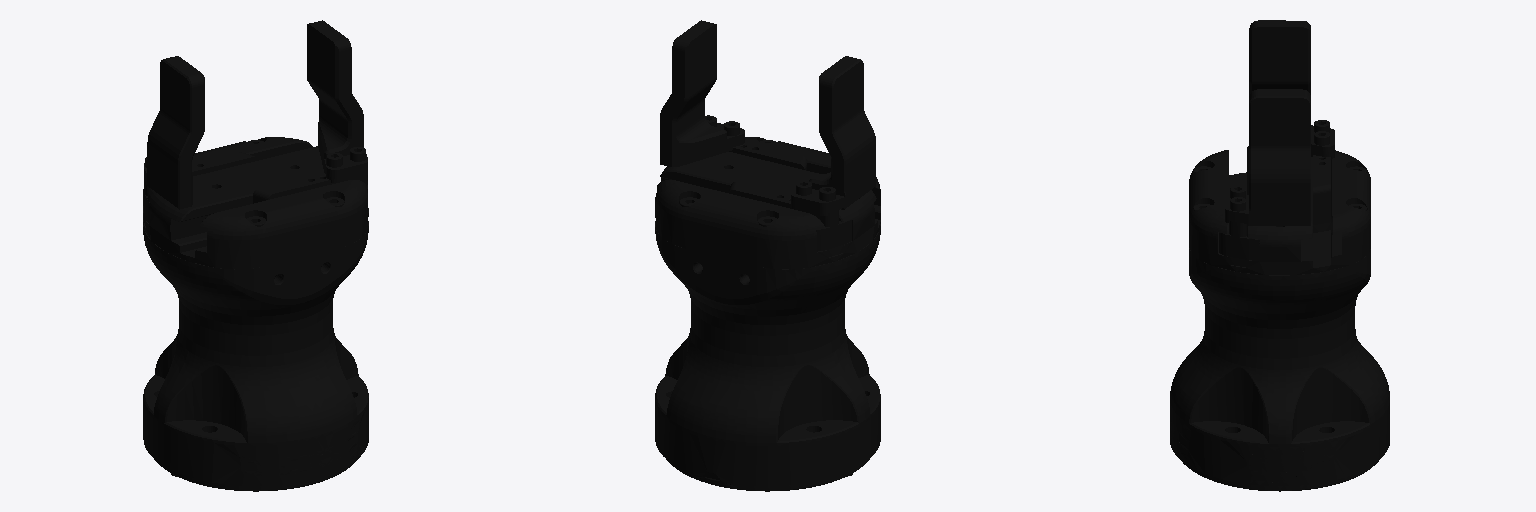
robot.urdf — robotiq_hande:
<?xml version="1.0" ?>
<!-- =================================================================================== -->
<!-- |    This document was autogenerated by xacro from [local-path]/ros2_crystal/src/mara/robotiq_hande_gripper_description/urdf/module_gripper.urdf.xacro | -->
<!-- |    EDITING THIS FILE BY HAND IS NOT RECOMMENDED                                 | -->
<!-- =================================================================================== -->
<robot name="robotiq_hande" xmlns:xacro="http://ros.org/wiki/xacro">
  <link name="robotiq_hande_base_link">
    <inertial>
      <origin rpy="0 0 0" xyz="8.625E-08 -4.6583E-06 0.03145"/>
      <mass value="0.22652"/>
      <inertia ixx="0.00020005" ixy="0" ixz="0" iyy="0.00017832" iyz="0" izz="0.00013478"/>
    </inertial>
    <visual>
      <origin rpy="0 0 1.57" xyz="0 0 0"/>
      <geometry>
        <mesh filename="package://robotiq_hande_gripper_description/meshes/hand-e.dae" scale="0.001 0.001 0.001"/>
      </geometry>
      <material name="">
        <color rgba="0.1 0.1 0.1 1"/>
      </material>
    </visual>
    <collision>
      <origin rpy="0 0 1.57" xyz="0 0 0"/>
      <geometry>
        <mesh filename="package://robotiq_hande_gripper_description/meshes/hand-e.dae" scale="0.001 0.001 0.001"/>
      </geometry>
    </collision>
  </link>
  <gazebo reference="robotiq_hande_base_link">
    <material>Gazebo/Grey</material>
    <selfCollide>True</selfCollide>
  </gazebo>
  <link name="finger1">
    <inertial>
      <origin rpy="0 0 0" xyz="8.625E-08 -4.6583E-06 0.03145"/>
      <mass value="0.22652"/>
      <inertia ixx="0.00020005" ixy="0" ixz="0" iyy="0.00017832" iyz="0" izz="0.00013478"/>
    </inertial>
    <visual>
      <origin rpy="0 0 1.57" xyz="0 0 0"/>
      <geometry>
        <mesh filename="package://robotiq_hande_gripper_description/meshes/finger_1.dae" scale="0.001 0.001 0.001"/>
      </geometry>
      <material name="">
        <color rgba="0.1 0.1 0.1 1"/>
      </material>
    </visual>
    <collision>
      <origin rpy="0 0 1.57" xyz="0 0 0"/>
      <geometry>
        <mesh filename="package://robotiq_hande_gripper_description/meshes/finger_1.dae" scale="0.001 0.001 0.001"/>
      </geometry>
    </collision>
  </link>
  <gazebo reference="finger1">
    <material>Gazebo/Grey</material>
    <selfCollide>True</selfCollide>
  </gazebo>
  <link name="finger2">
    <inertial>
      <origin rpy="0 0 0" xyz="8.625E-08 -4.6583E-06 0.03145"/>
      <mass value="0.22652"/>
      <inertia ixx="0.00020005" ixy="0" ixz="0" iyy="0.00017832" iyz="0" izz="0.00013478"/>
    </inertial>
    <visual>
      <origin rpy="0 0 1.57" xyz="0 0 0"/>
      <geometry>
        <mesh filename="package://robotiq_hande_gripper_description/meshes/finger_2.dae" scale="0.001 0.001 0.001"/>
      </geometry>
      <material name="">
        <color rgba="0.1 0.1 0.1 1"/>
      </material>
    </visual>
    <collision>
      <origin rpy="0 0 1.57" xyz="0 0 0"/>
      <geometry>
        <mesh filename="package://robotiq_hande_gripper_description/meshes/finger_2.dae" scale="0.001 0.001 0.001"/>
      </geometry>
    </collision>
  </link>
  <gazebo reference="finger2">
    <material>Gazebo/Grey</material>
    <selfCollide>True</selfCollide>
  </gazebo>
  <joint name="finger1_joint" type="fixed">
    <origin rpy="0 0 0" xyz="0 0 0.0"/>
    <parent link="robotiq_hande_base_link"/>
    <child link="finger1"/>
  </joint>
  <joint name="finger2_joint" type="fixed">
    <origin rpy="0 0 0" xyz="0 0 0.0"/>
    <parent link="robotiq_hande_base_link"/>
    <child link="finger2"/>
  </joint>
  <link name="world"/>
  <joint name="world_to_hande_joint" type="fixed">
    <origin rpy="0 1.57 0" xyz="0 0 0.5"/>
    <parent link="world"/>
    <child link="robotiq_hande_base_link"/>
  </joint>
</robot>

--- Render facts (derived) ---
Views: 3 orthographic renders of the robot side by side, from view 1: azimuth 30°, elevation 25°; view 2: azimuth 150°, elevation 25°; view 3: azimuth 270°, elevation 25°.
Robot: robotiq_hande — 4 links, 3 joints (3 fixed); root link world; default pose: all joints at 0.
Visible links, largest first — view 1: robotiq_hande_base_link, finger1, finger2; view 2: robotiq_hande_base_link, finger2, finger1; view 3: robotiq_hande_base_link, finger1, finger2.
Boxes of the visible links, box(x1,y1,x2,y2) form: robotiq_hande_base_link: box(143, 137, 368, 491); finger1: box(253, 20, 367, 202); finger2: box(144, 56, 254, 209); robotiq_hande_base_link: box(655, 137, 880, 491); finger2: box(729, 56, 875, 226); finger1: box(660, 20, 806, 169); robotiq_hande_base_link: box(1170, 146, 1389, 491); finger1: box(1225, 89, 1310, 238); finger2: box(1249, 20, 1334, 231).
Bounding box of the posed robot: 0.0751 × 0.075 × 0.1494 m (x, y, z).
Meshes: 3 distinct files referenced, 3 mesh visuals loaded (3 Collada DAE).
